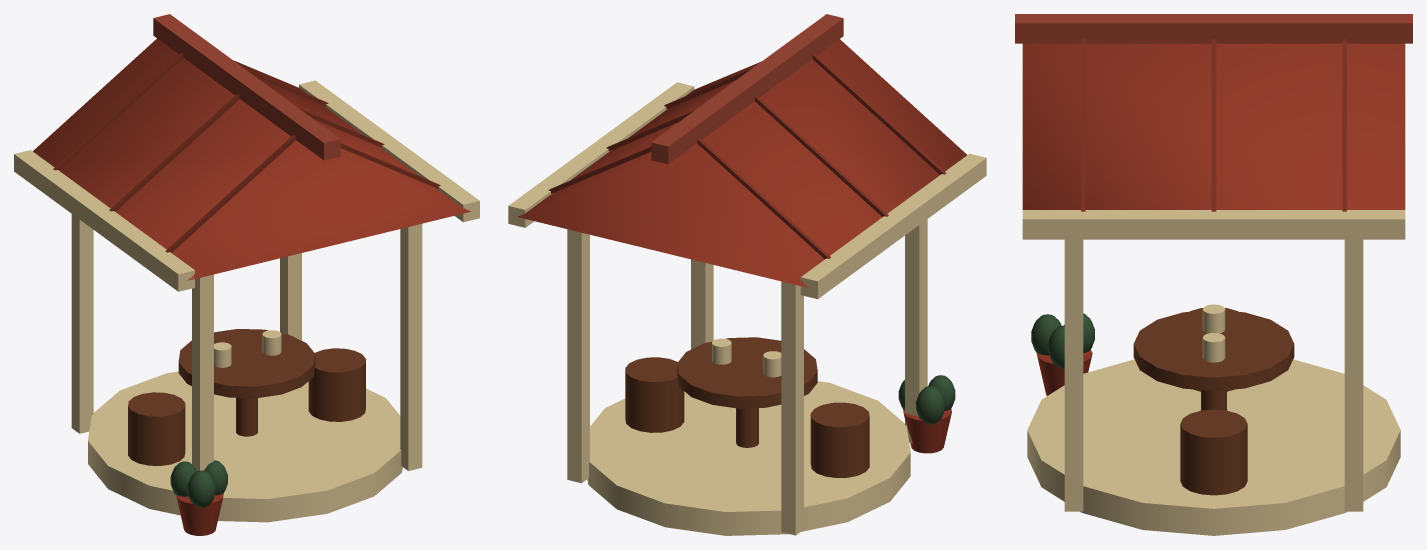
The model's file is tea.glb.
3 renders of one model, left to right at view 1: azimuth 30°, elevation 25°; view 2: azimuth 150°, elevation 25°; view 3: azimuth 270°, elevation 25°, orthographic. The views are drawn at different scales.
Visible parts, largest first — view 1: _MeshInstance3D_142, _MeshInstance3D_137, _MeshInstance3D_143, _MeshInstance3D_144, _MeshInstance3D_153, _MeshInstance3D_141, _MeshInstance3D_138, _MeshInstance3D_139, _MeshInstance3D_156, _MeshInstance3D_157, _MeshInstance3D_148, _MeshInstance3D_140 (+8 smaller); view 2: _MeshInstance3D_142, _MeshInstance3D_137, _MeshInstance3D_143, _MeshInstance3D_144, _MeshInstance3D_153, _MeshInstance3D_140, _MeshInstance3D_138, _MeshInstance3D_156, _MeshInstance3D_139, _MeshInstance3D_157, _MeshInstance3D_148, _MeshInstance3D_141 (+7 smaller); view 3: _MeshInstance3D_142, _MeshInstance3D_137, _MeshInstance3D_143, _MeshInstance3D_148, _MeshInstance3D_153, _MeshInstance3D_140, _MeshInstance3D_141, _MeshInstance3D_157, _MeshInstance3D_150, _MeshInstance3D_158, _MeshInstance3D_149, _MeshInstance3D_151 (+5 smaller).
Part boxes in pixels (bbox=[...]): _MeshInstance3D_142: bbox=[33, 38, 470, 280]; _MeshInstance3D_137: bbox=[88, 371, 402, 522]; _MeshInstance3D_143: bbox=[153, 14, 340, 160]; _MeshInstance3D_144: bbox=[14, 150, 194, 291]; _MeshInstance3D_153: bbox=[178, 329, 315, 398]; _MeshInstance3D_141: bbox=[400, 224, 422, 470]; _MeshInstance3D_138: bbox=[71, 214, 93, 433]; _MeshInstance3D_139: bbox=[192, 274, 213, 471]; _MeshInstance3D_156: bbox=[128, 392, 185, 465]; _MeshInstance3D_157: bbox=[308, 348, 365, 421]; _MeshInstance3D_148: bbox=[299, 80, 479, 222]; _MeshInstance3D_140: bbox=[280, 253, 301, 340]; _MeshInstance3D_142: bbox=[517, 39, 966, 287]; _MeshInstance3D_137: bbox=[587, 381, 910, 535]; _MeshInstance3D_143: bbox=[651, 14, 843, 164]; _MeshInstance3D_144: bbox=[800, 153, 986, 299]; _MeshInstance3D_153: bbox=[677, 337, 817, 408]; _MeshInstance3D_140: bbox=[567, 229, 589, 483]; _MeshInstance3D_138: bbox=[781, 281, 803, 535]; _MeshInstance3D_156: bbox=[810, 402, 869, 477]; _MeshInstance3D_139: bbox=[905, 219, 927, 443]; _MeshInstance3D_157: bbox=[625, 357, 684, 432]; _MeshInstance3D_148: bbox=[508, 82, 694, 227]; _MeshInstance3D_141: bbox=[691, 259, 713, 349]; _MeshInstance3D_142: bbox=[1022, 43, 1405, 209]; _MeshInstance3D_137: bbox=[1027, 359, 1400, 535]; _MeshInstance3D_143: bbox=[1015, 14, 1412, 43]; _MeshInstance3D_148: bbox=[1022, 210, 1405, 239]; _MeshInstance3D_153: bbox=[1133, 310, 1294, 390]; _MeshInstance3D_140: bbox=[1344, 239, 1363, 511]; _MeshInstance3D_141: bbox=[1064, 239, 1083, 511]; _MeshInstance3D_157: bbox=[1180, 409, 1247, 495]; _MeshInstance3D_150: bbox=[1211, 39, 1216, 211]; _MeshInstance3D_158: bbox=[1036, 350, 1092, 395]; _MeshInstance3D_149: bbox=[1342, 39, 1346, 211]; _MeshInstance3D_151: bbox=[1081, 39, 1085, 211].
Size of the model in its own units: 2.17 by 2.59 by 2.13.
